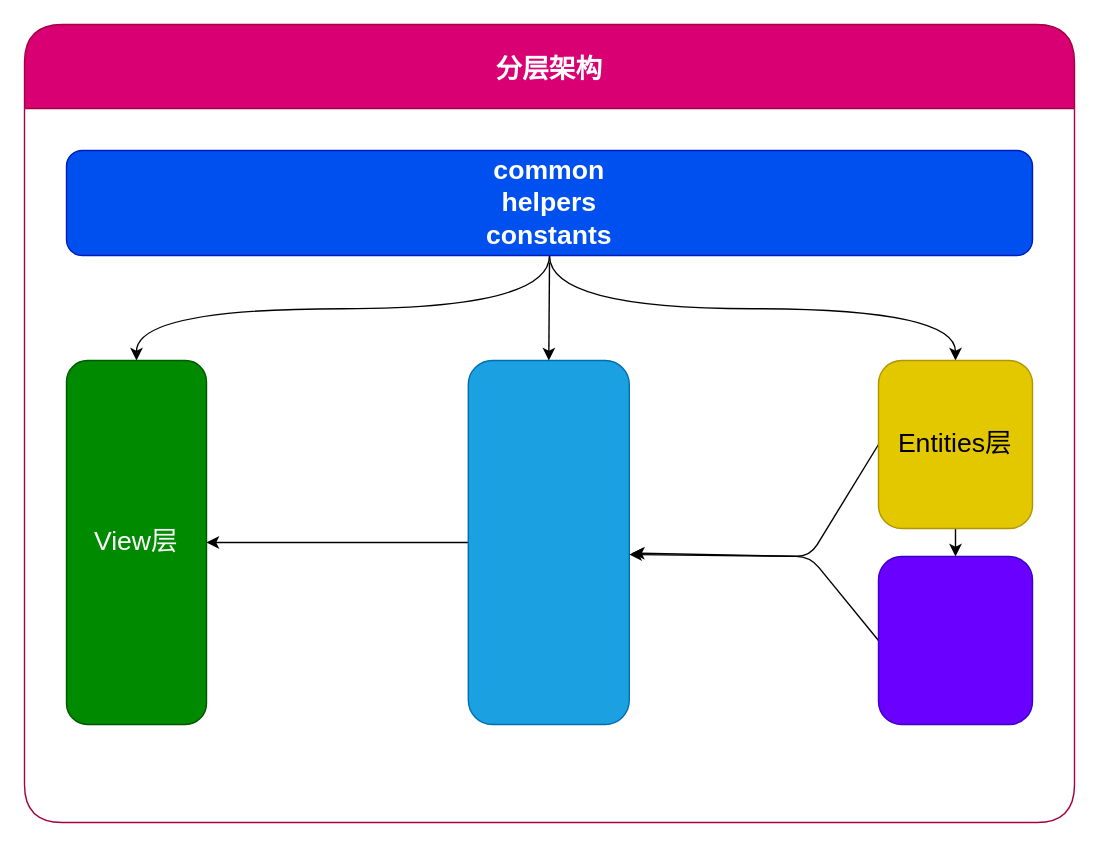
Image size: 1099x847. Some labels were removed from this diagram. Here are the shapes that lost their labels. From the top down, the centre of each, then its label:
At (548,541): "Interactors层".
At (954,639): "Services层".
